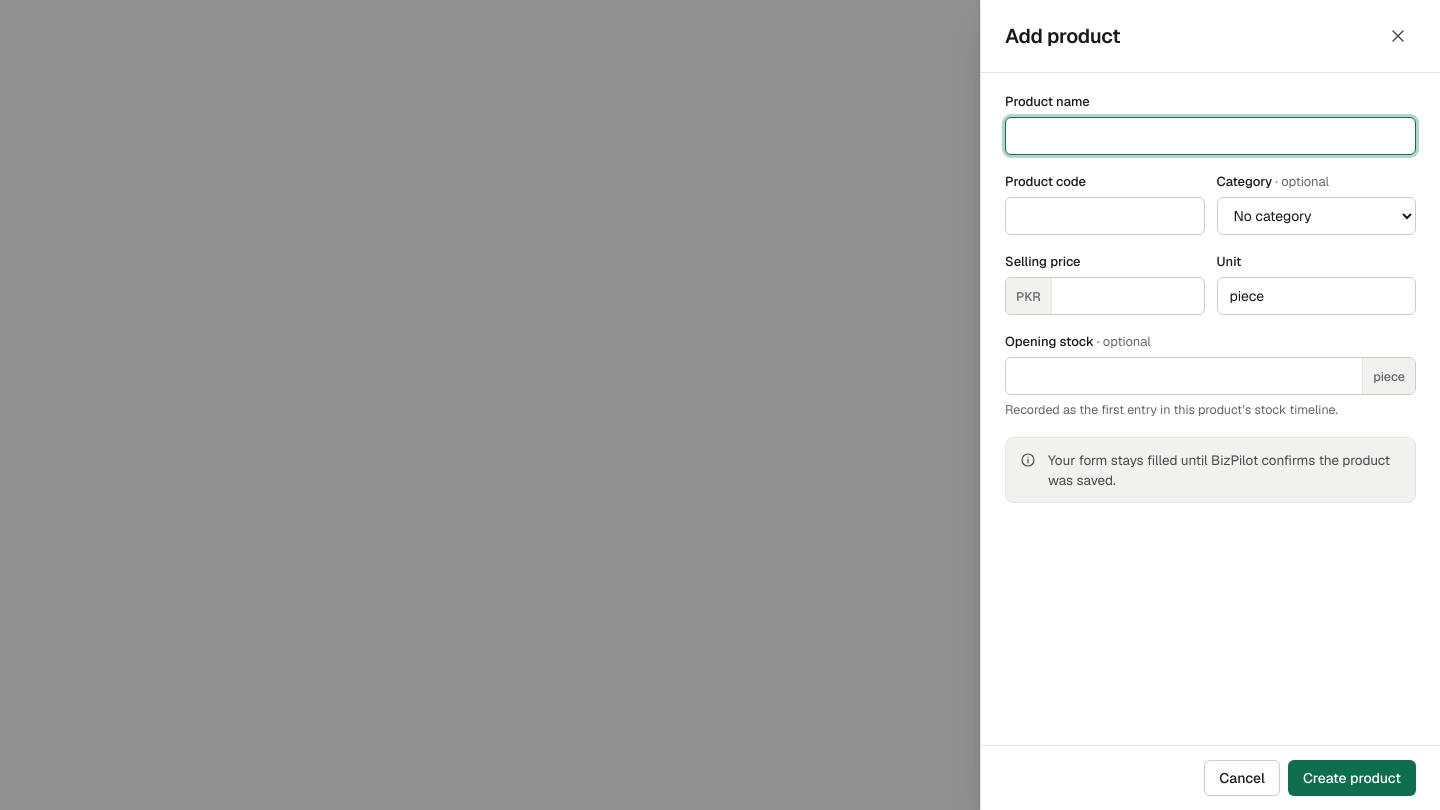
Scenario: CAT-003: Catalog Frontend Slice › ProductSheet Component › shows field errors for an invalid price
Type "Green Tea" into the field labelled "Product name" at (1210, 136), box left=1005, top=117, right=1416, bottom=155
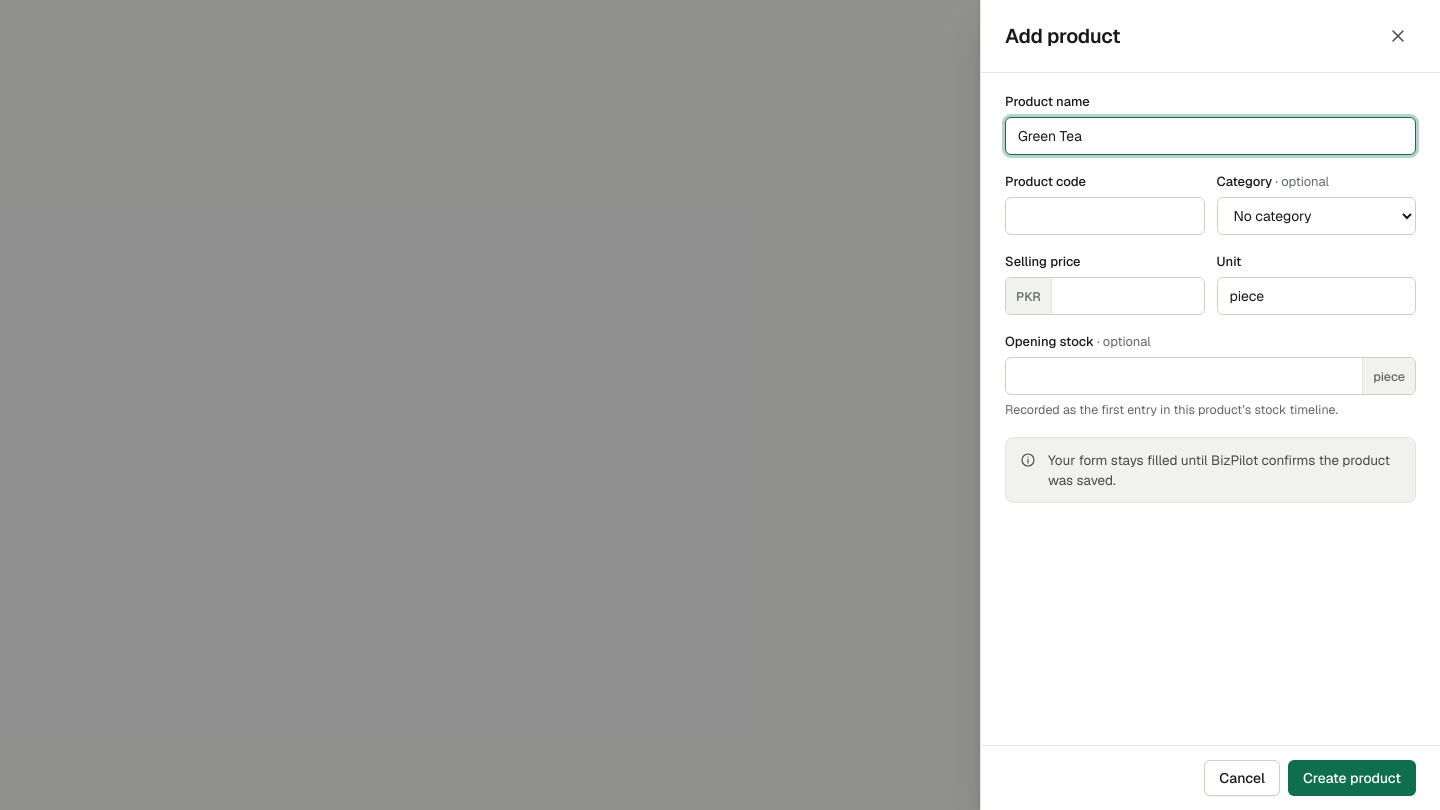
Type "TEA-002" into the field labelled "Product code" at (1105, 216), box left=1005, top=197, right=1204, bottom=235
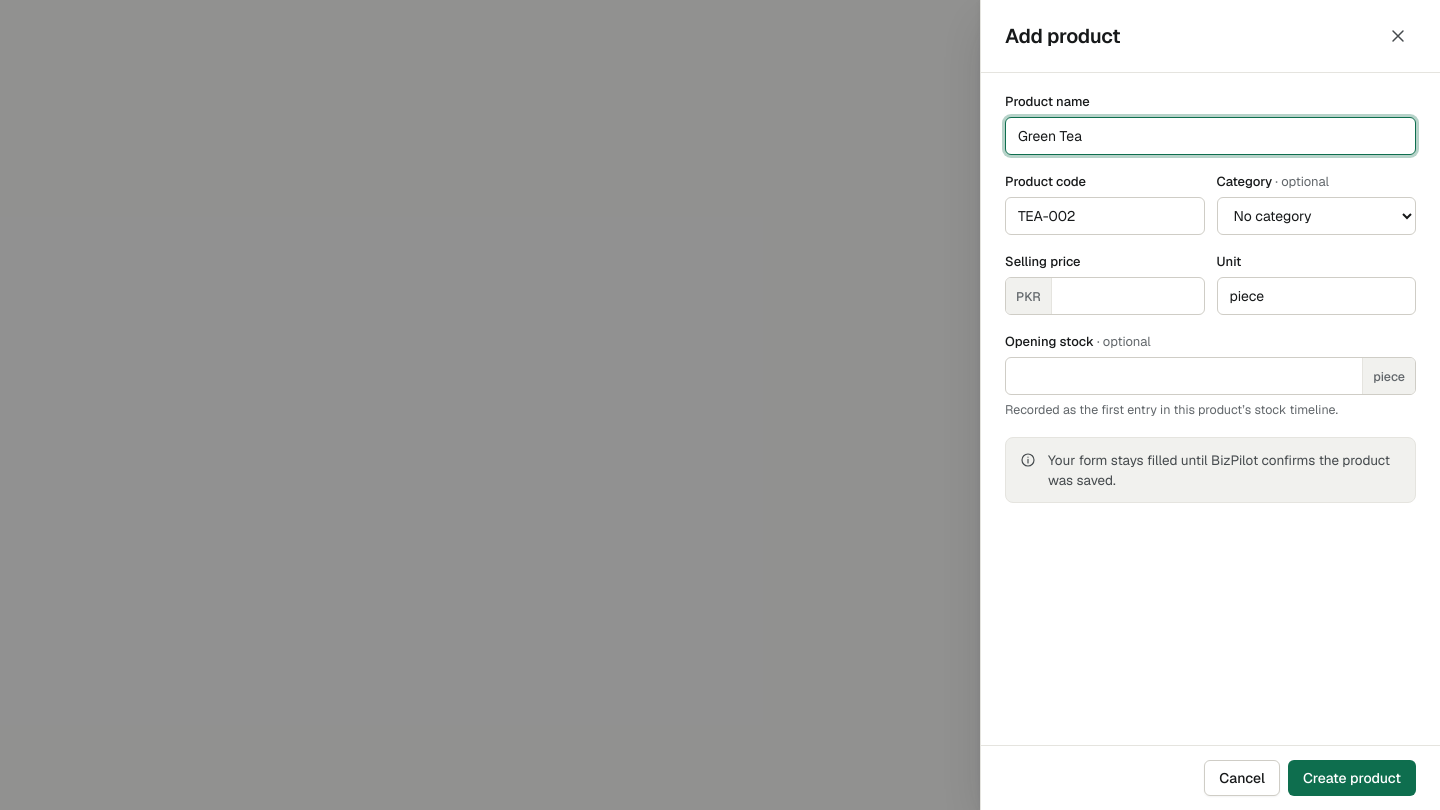
Type "12.345" into the field labelled "Selling price" at (1128, 296), box left=1052, top=278, right=1204, bottom=314
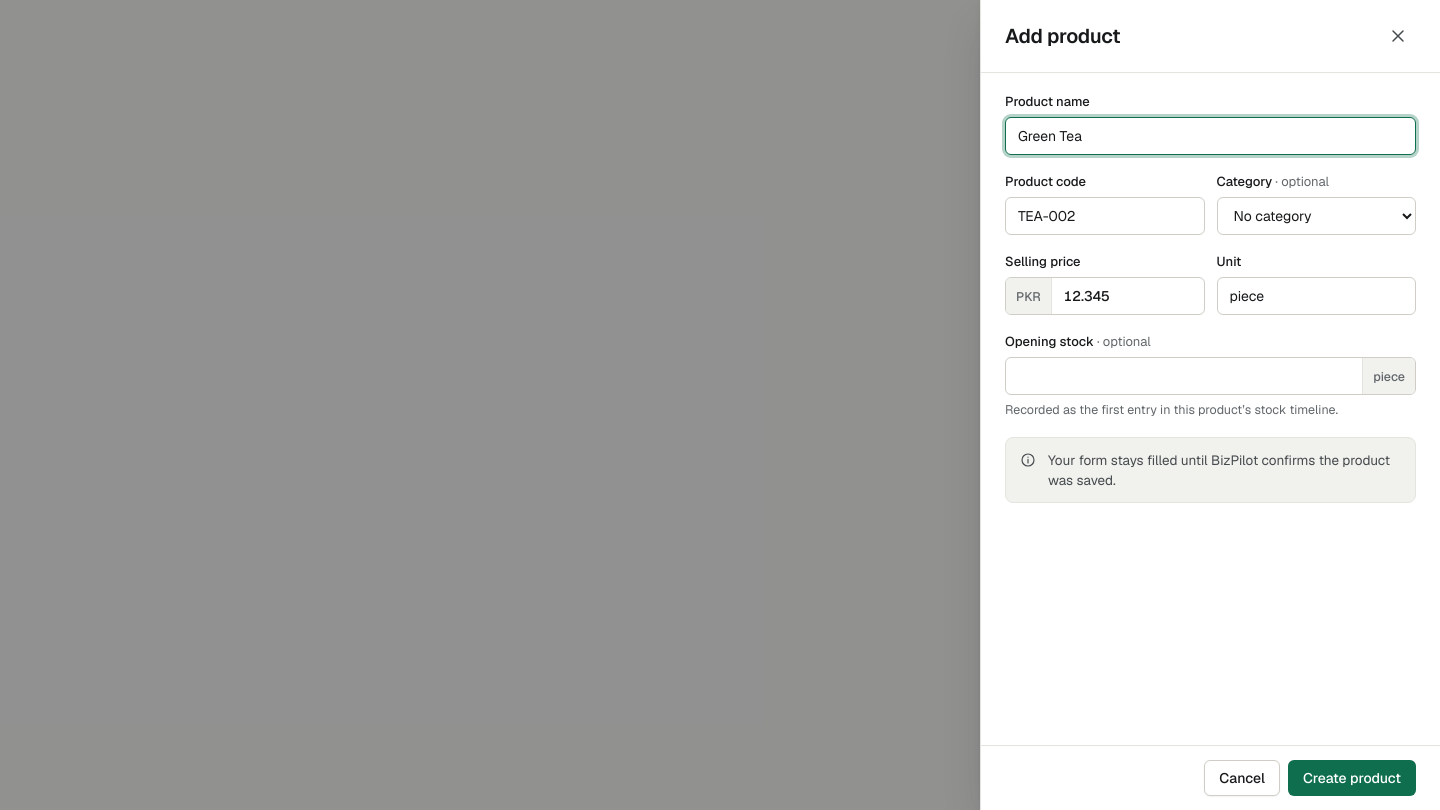
Click the button "Create product" at (1352, 778), box left=1288, top=760, right=1416, bottom=796
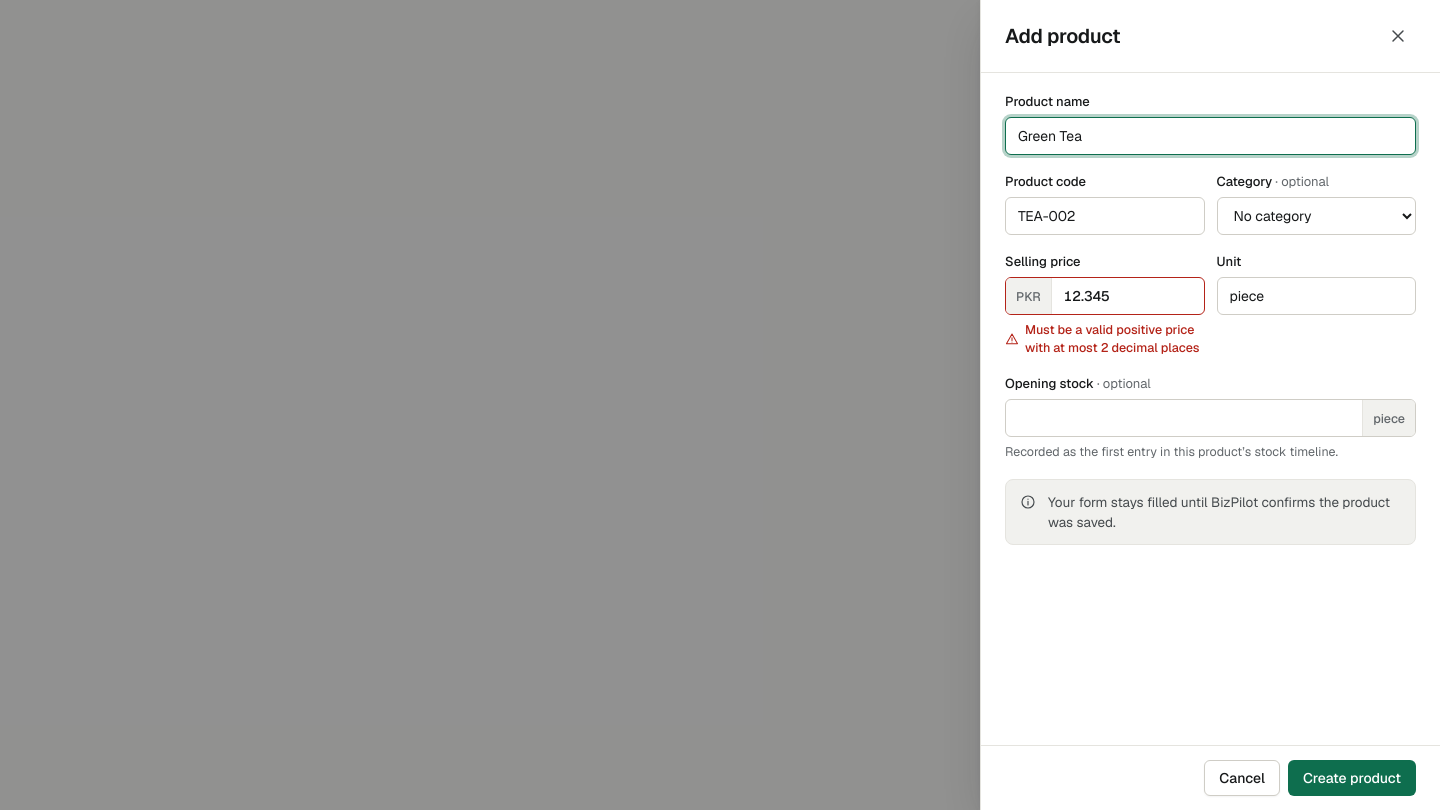
Expected: the text "Must be a valid positive price with at most 2 decimal places" is shown, left=1005, top=321, right=1204, bottom=357
